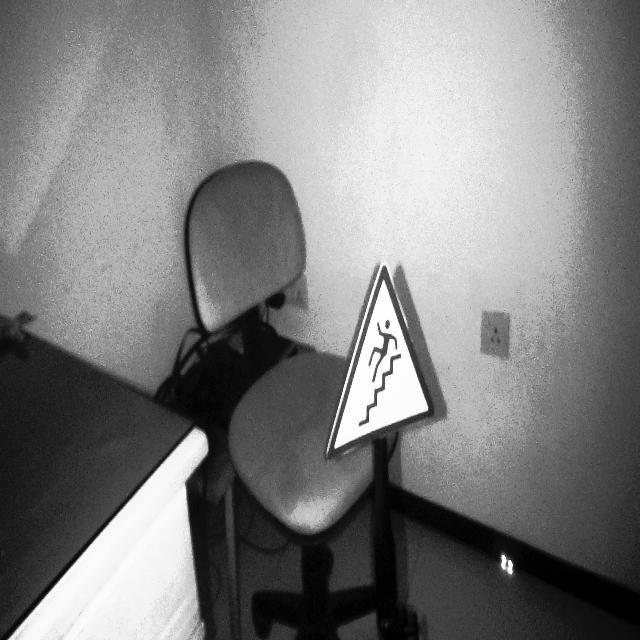Sign: (325, 263, 435, 463)
